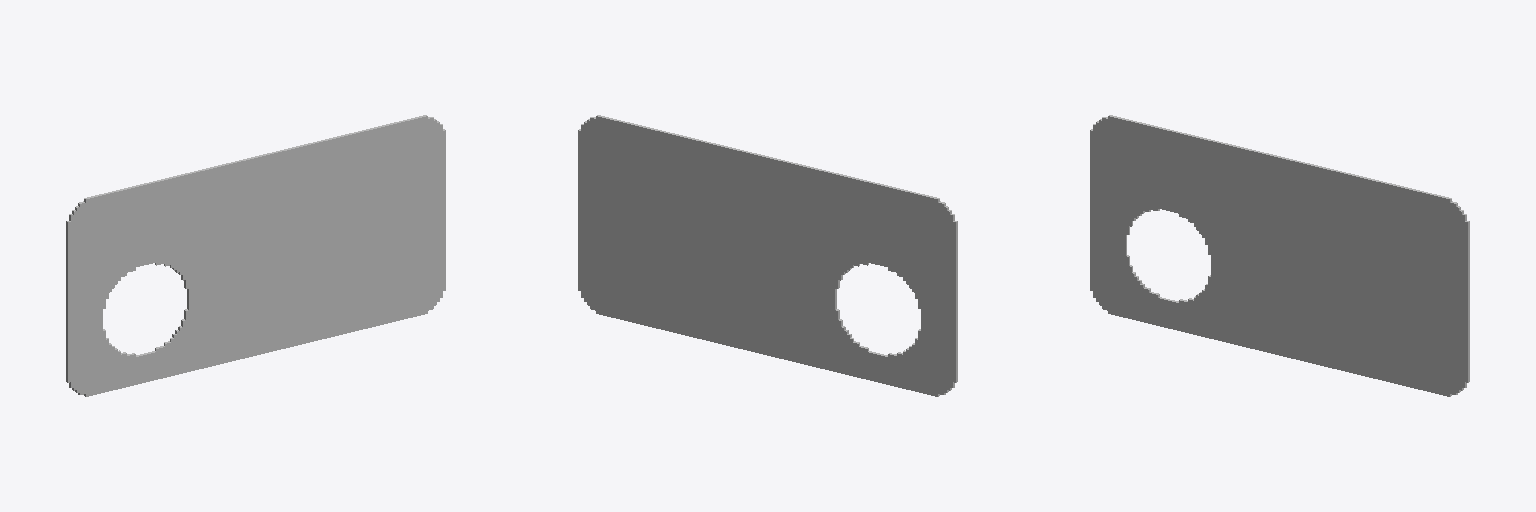
The model's file is ResultTable.obj.
3 renders of one model, left to right at view 1: azimuth 30°, elevation 25°; view 2: azimuth 150°, elevation 25°; view 3: azimuth 330°, elevation 25°, orthographic.
Visible parts, largest first — view 1: object 1; view 2: object 1; view 3: object 1.
Boxes of the visible parts, <box> form: object 1: <box>66,115,445,396</box>; object 1: <box>578,115,957,396</box>; object 1: <box>1090,115,1469,396</box>.
Size of the model in its own units: 12.8 by 6.4 by 0.1.